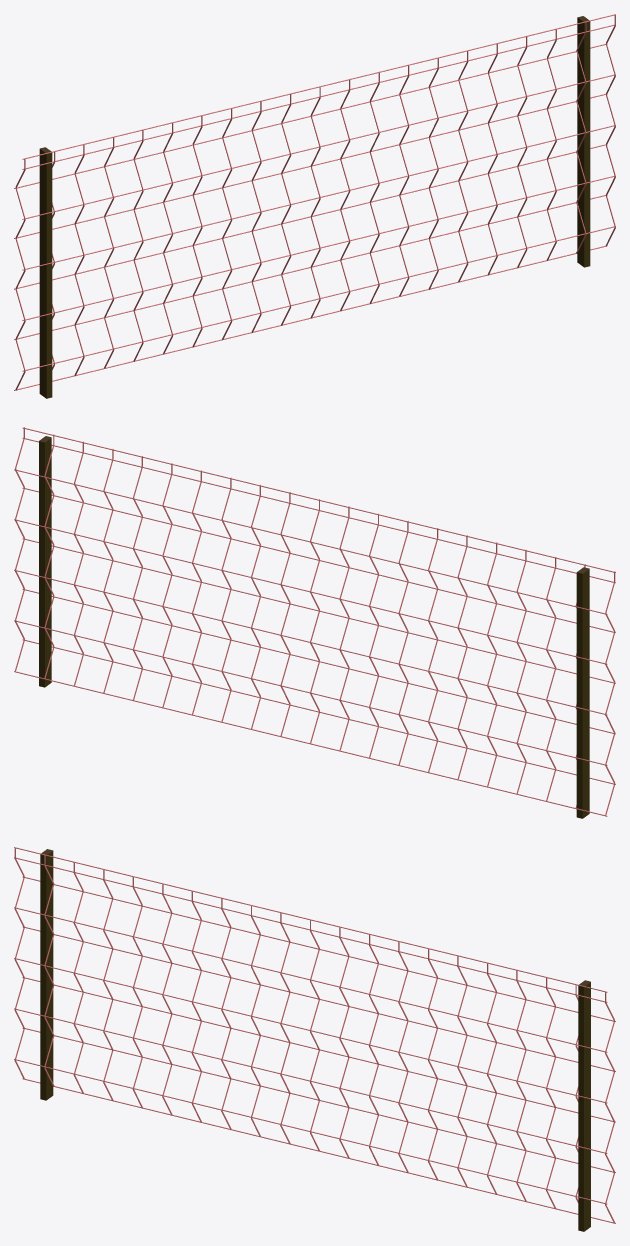
Rendered from toremeshsingle_h800_woodredoak.fbx.
3 renders of one model, top to bottom at view 1: azimuth 30°, elevation 25°; view 2: azimuth 150°, elevation 25°; view 3: azimuth 330°, elevation 25°, orthographic.
Parts seen in each view (by area): view 1: toremeshsingle_h800_red; view 2: toremeshsingle_h800_red; view 3: toremeshsingle_h800_red.
Boxes of the visible parts, bbox=[...] form: toremeshsingle_h800_red: bbox=[14, 14, 615, 398]; toremeshsingle_h800_red: bbox=[14, 427, 615, 818]; toremeshsingle_h800_red: bbox=[14, 847, 615, 1231].
Bounding box in the file's own units: 199 × 79.15 × 5.67.
3 materials, 2 textured.
